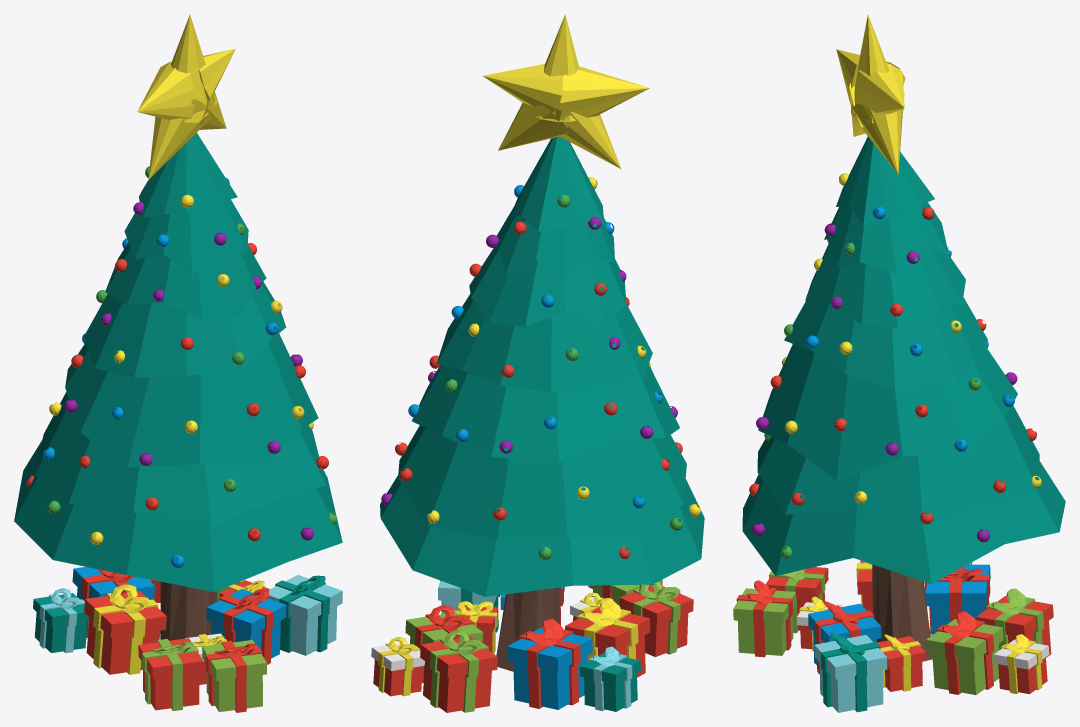
The model's file is xmastree.glb.
3 renders of one model, left to right at view 1: azimuth 30°, elevation 25°; view 2: azimuth 150°, elevation 25°; view 3: azimuth 270°, elevation 25°, orthographic.
Visible parts, largest first — view 1: group375406252, group570321177; view 2: group375406252, group570321177; view 3: group375406252, group570321177.
Boxes of the visible parts, x1=… form: group375406252: x1=14, y1=133, x2=342, y2=712; group570321177: x1=49, y1=14, x2=313, y2=674; group375406252: x1=371, y1=136, x2=704, y2=712; group570321177: x1=378, y1=14, x2=700, y2=696; group375406252: x1=733, y1=136, x2=1065, y2=712; group570321177: x1=782, y1=14, x2=1042, y2=693.
Size of the model in its own units: 0.843 by 1.8 by 0.851.
